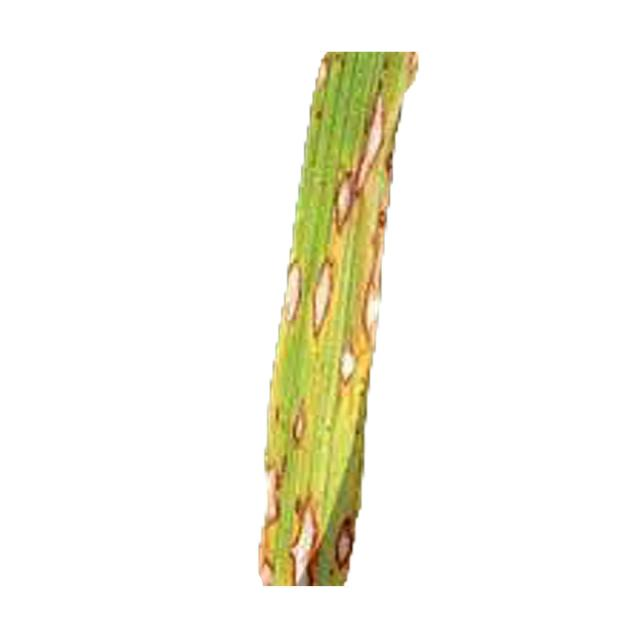Leaf blast: (232, 44, 450, 606)
